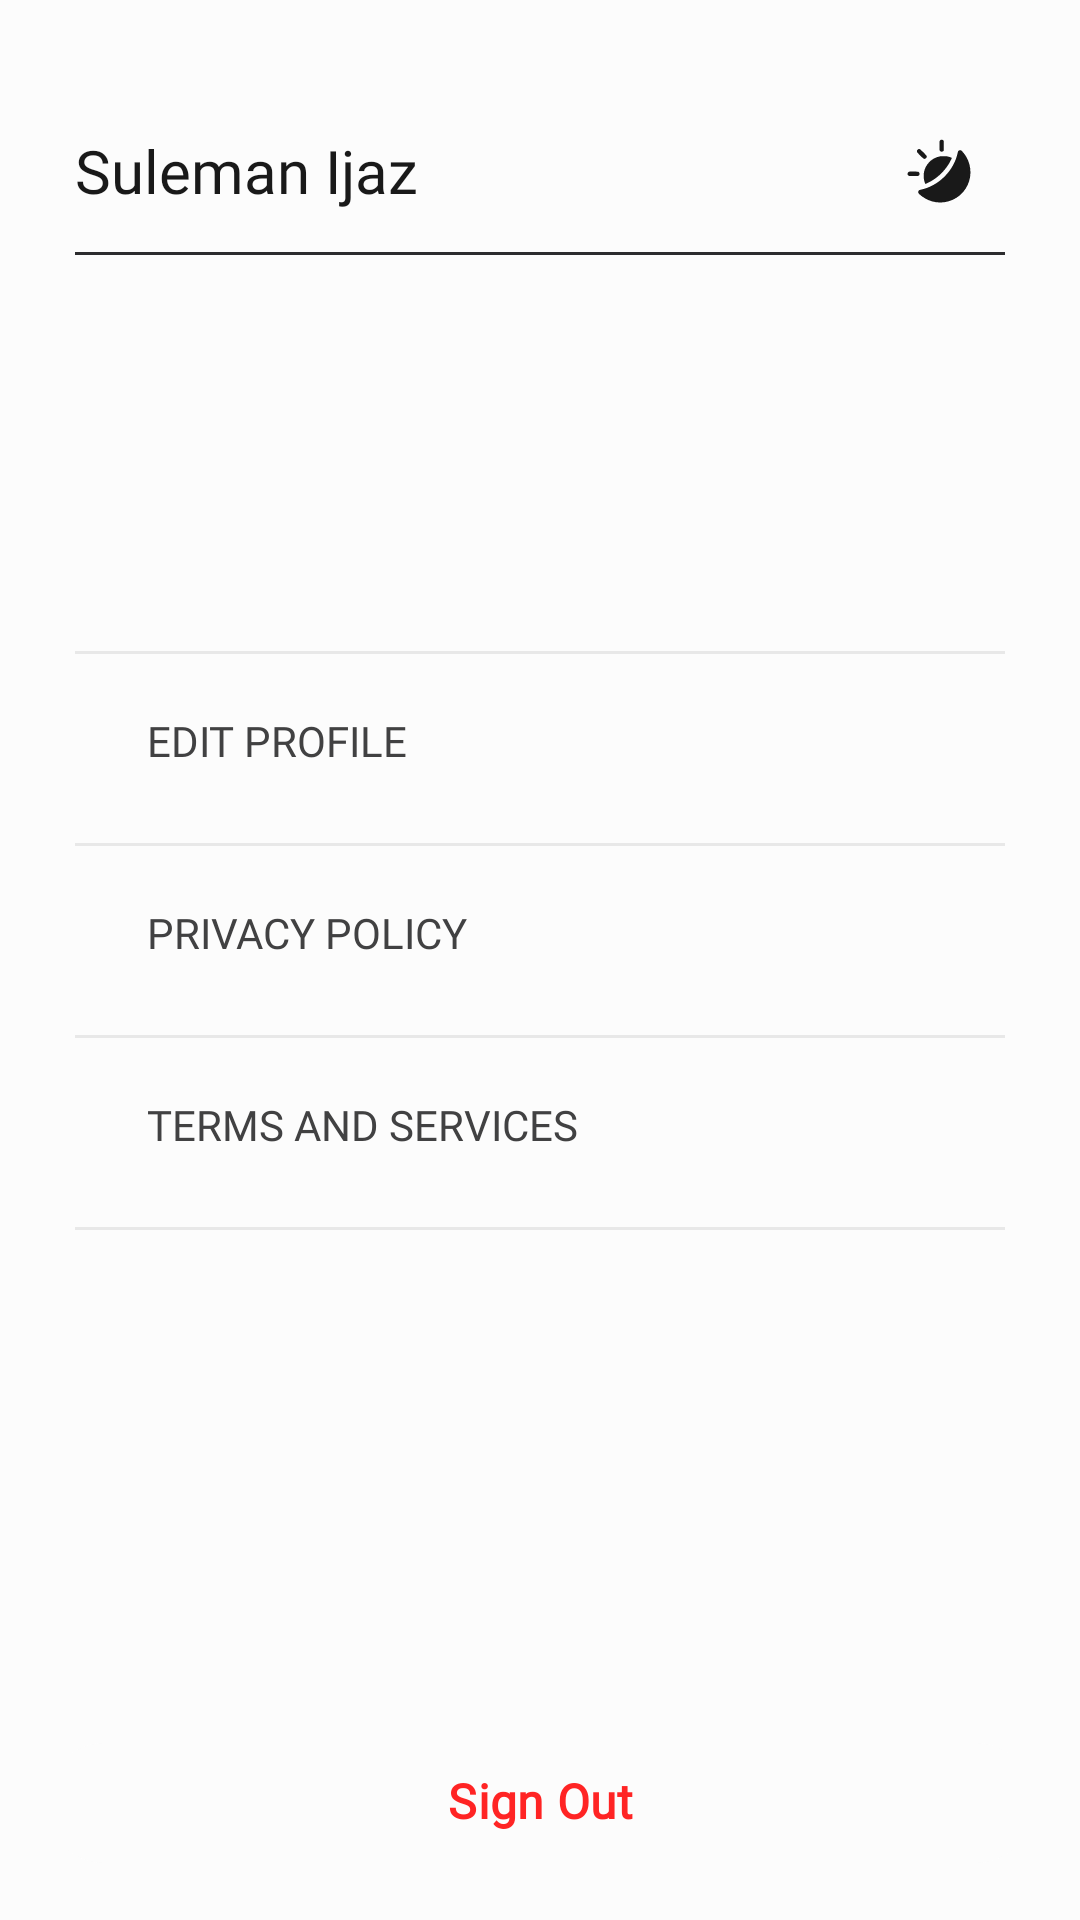

Screen size 1080 x 1920. Icon name, then its box in pixels as (x1, y1, x2, y2):
day and night: (907, 139, 971, 203)
